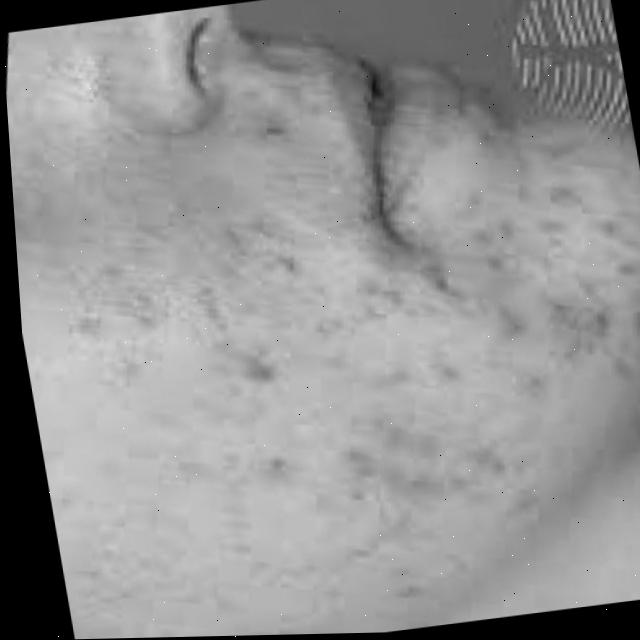Eczema: (157, 12, 640, 548)
